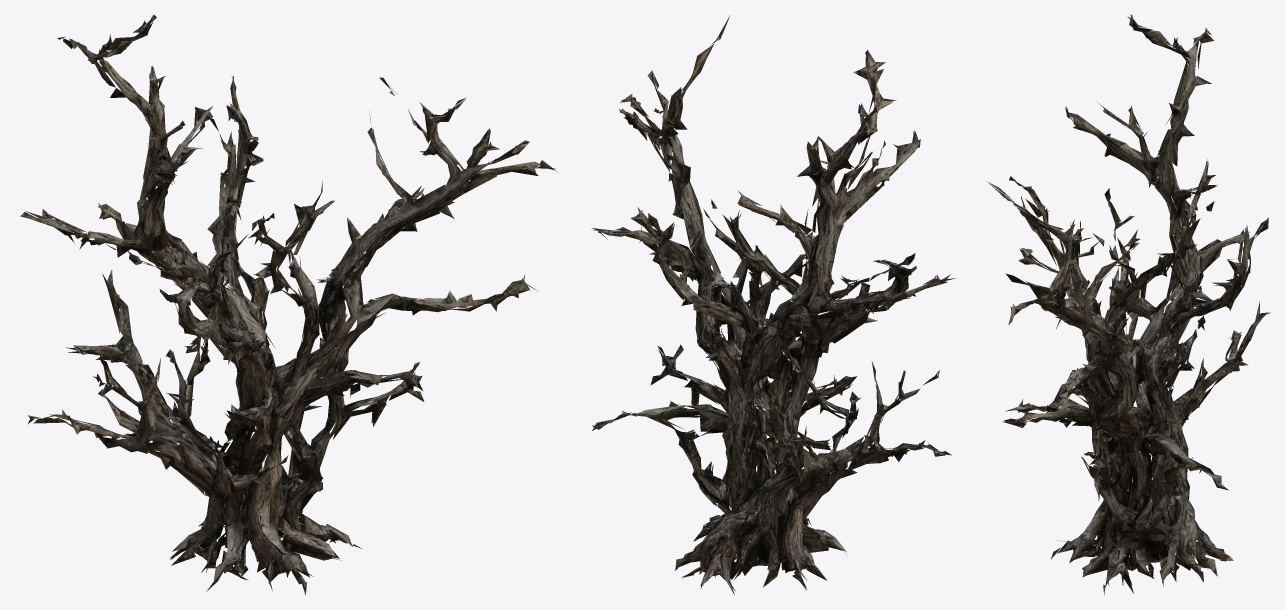
The model's file is DeadBush.fbx.
3 views of the same model, side by side, from view 1: azimuth 30°, elevation 25°; view 2: azimuth 150°, elevation 25°; view 3: azimuth 270°, elevation 25° (orthographic). The views are drawn at different scales.
Visible parts, largest first — view 1: DeadBush; view 2: DeadBush; view 3: DeadBush.
Part boxes in pixels (bbox=[...]): DeadBush: bbox=[20, 15, 559, 594]; DeadBush: bbox=[591, 15, 956, 594]; DeadBush: bbox=[988, 14, 1270, 595].
Bounding box in the file's own units: 79.64 × 98.41 × 50.56.
1 material, 1 textured.
